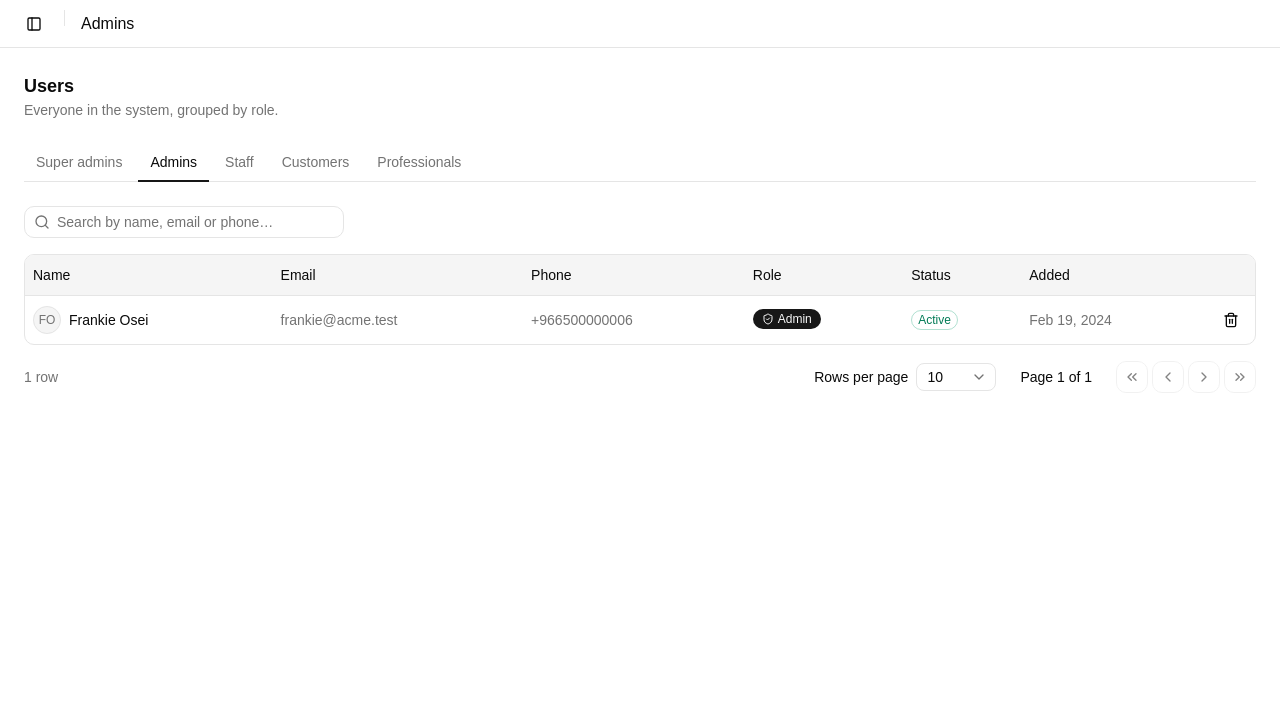
Scenario: deleting a user › removes the row once confirmed
Expected: the text "Frankie Osei" is shown, [69,310,148,330]
Click the button named "delete frankie osei": (1231, 320) [1215,304,1247,336]
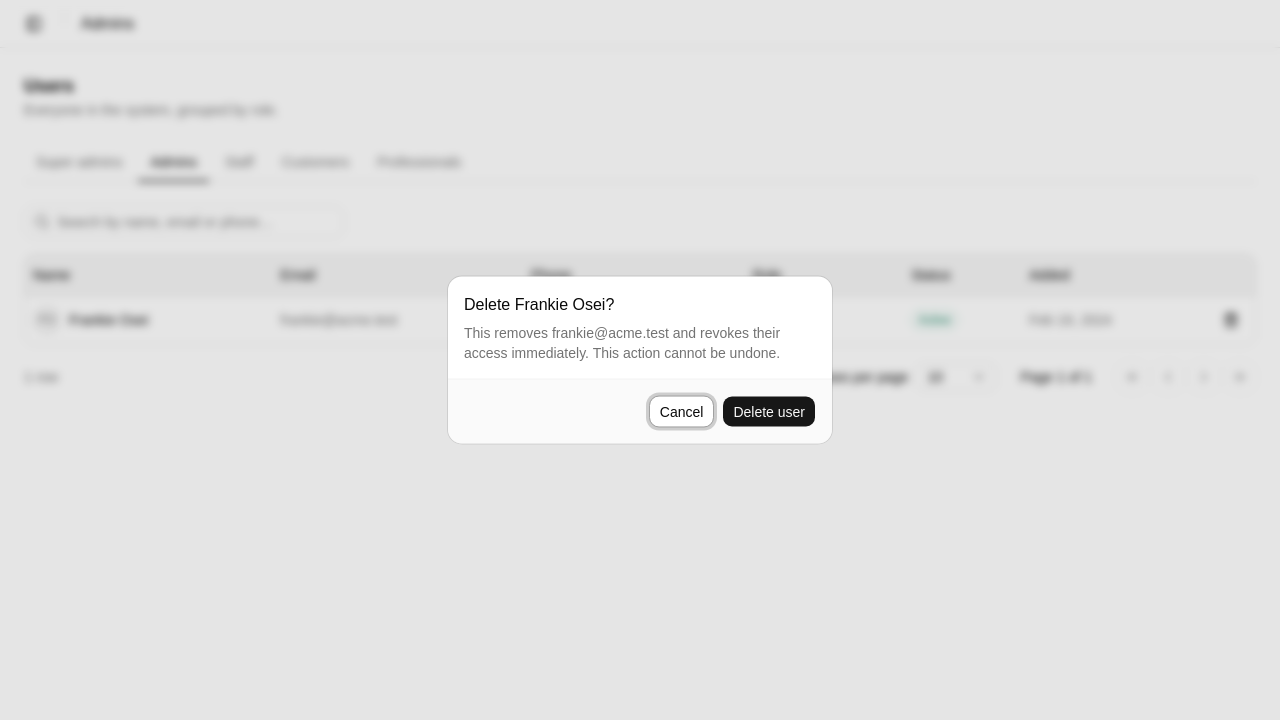
Click the button "Delete user": (769, 412) [722,396,816,428]
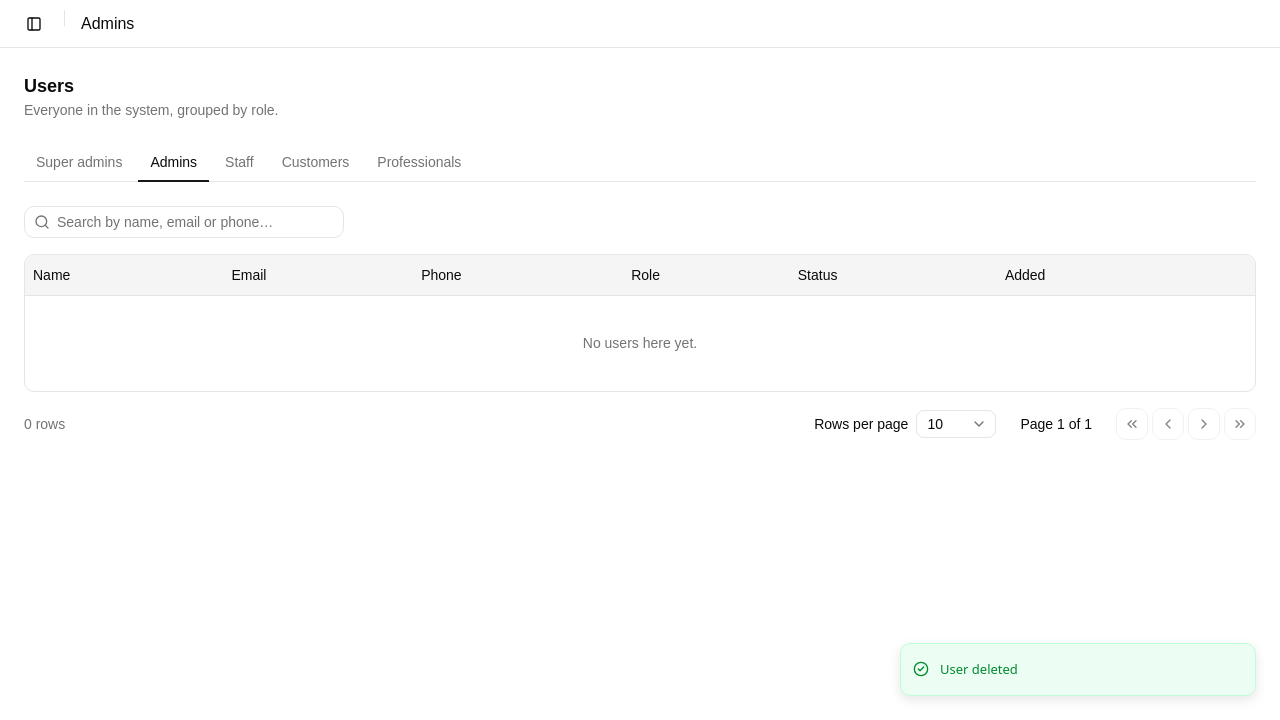
Expected: the button "Frankie Osei" is gone
